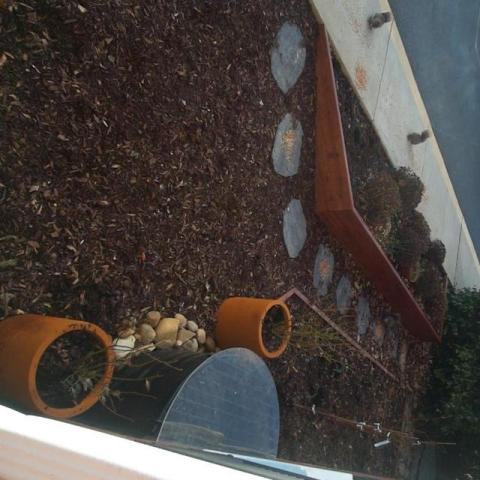small_animal: (367, 9, 394, 32), (383, 306, 403, 332), (405, 127, 431, 146)
